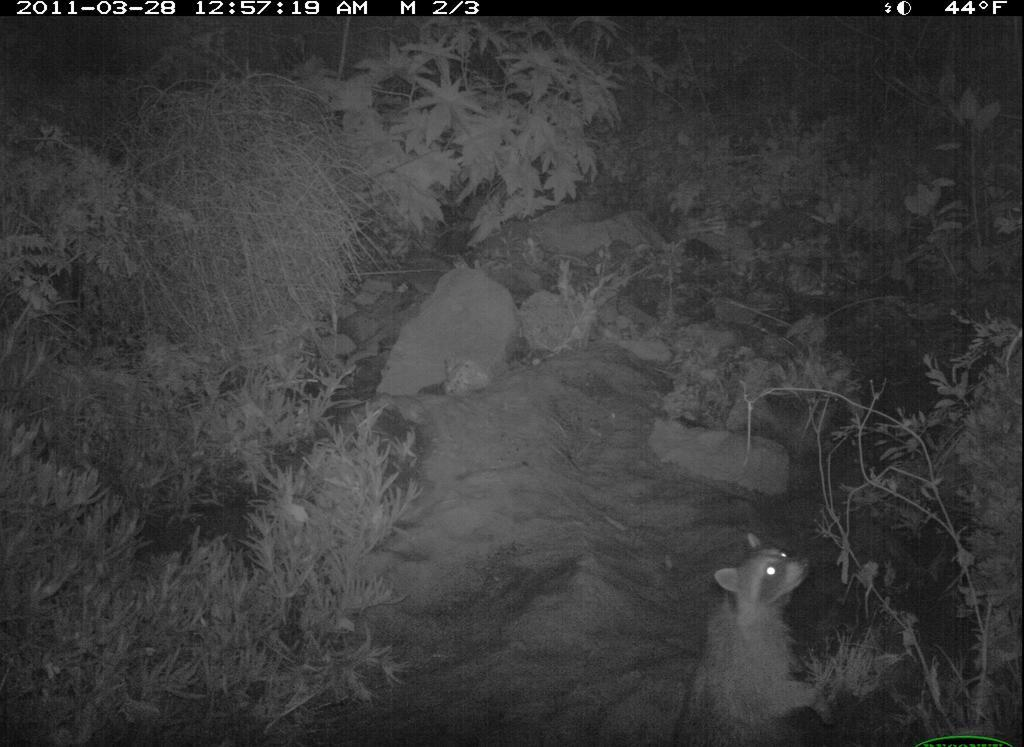raccoon: (674, 528, 839, 747)
